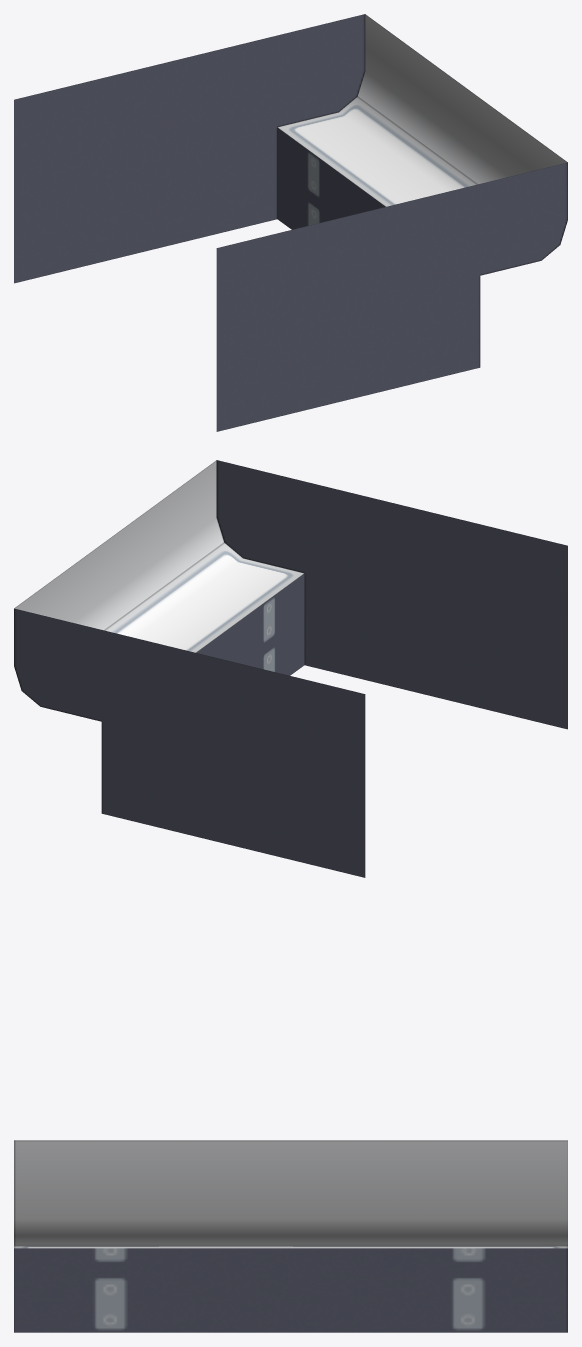
Rendered from Floor_Border_Line_02.FBX.
3 renders of one model, top to bottom at view 1: azimuth 30°, elevation 25°; view 2: azimuth 150°, elevation 25°; view 3: azimuth 270°, elevation 25°, orthographic. The views are drawn at different scales.
Parts seen in each view (by area): view 1: Floor_Border_Line_02; view 2: Floor_Border_Line_02; view 3: Floor_Border_Line_02.
Part boxes in pixels (x1,y1,x2,y2): Floor_Border_Line_02: (14, 14, 567, 431); Floor_Border_Line_02: (14, 460, 567, 877); Floor_Border_Line_02: (14, 1140, 567, 1332).
Size of the model in its own units: 2 by 1 by 2.
Materials: 2 (2 with a texture image).
